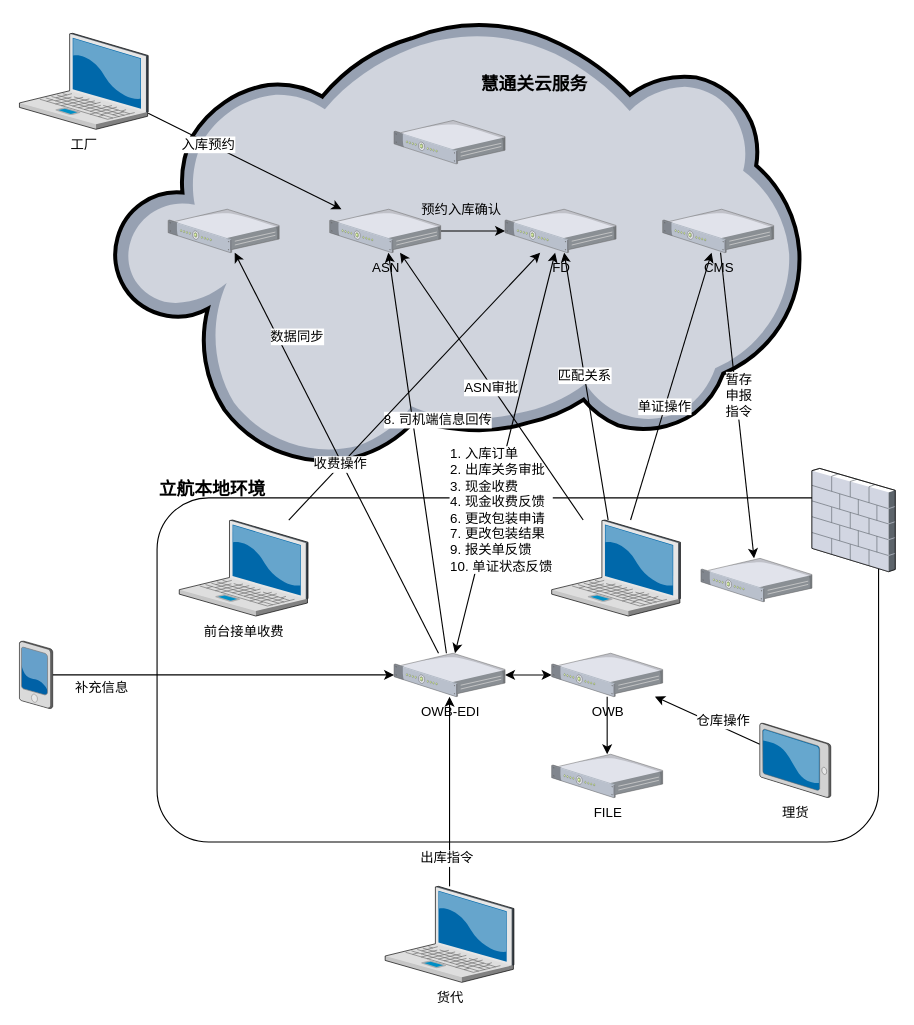
Image size: 914x1025. Some labels were removed from this diagram. The centre of each missing label's shape, as x and y in pixels:
OMS: point 448,141
单一窗口代理: point 755,579
单证: point 615,567
司机: point 35,674
海关同步数据库: point 223,230
